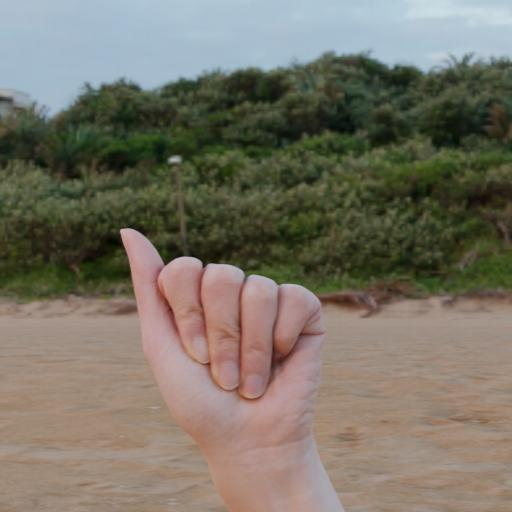A: (104, 199, 363, 477)
